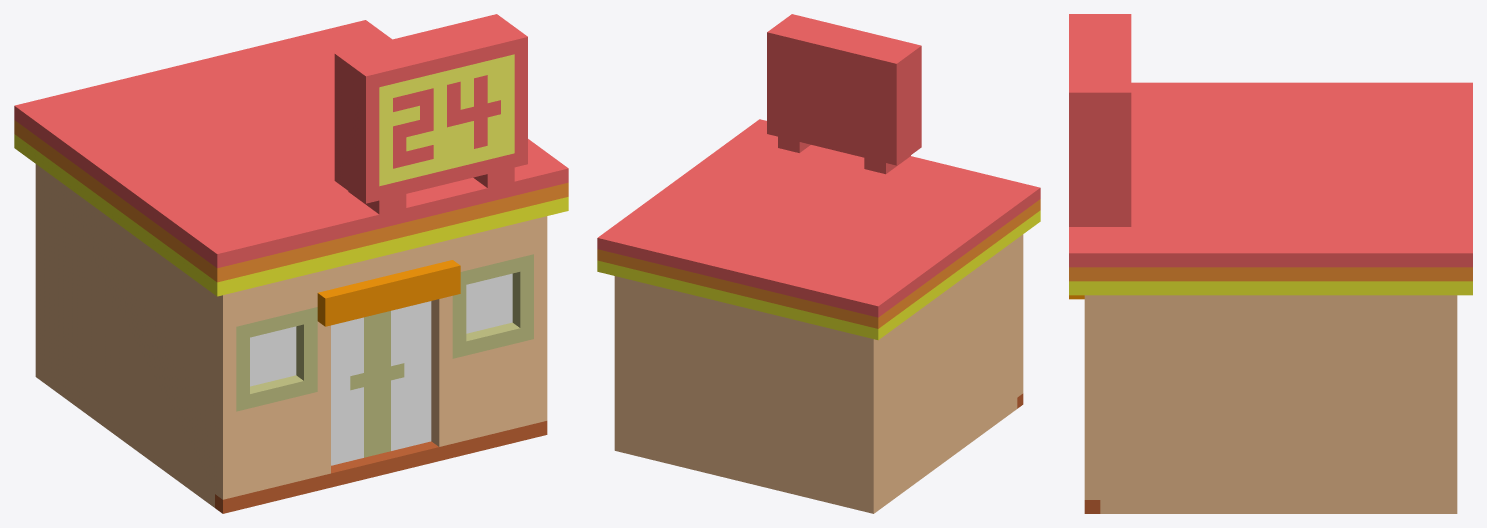
The model's file is conveni.glb.
3 views of the same model, side by side, from view 1: azimuth 30°, elevation 25°; view 2: azimuth 150°, elevation 25°; view 3: azimuth 270°, elevation 25° (orthographic). The views are drawn at different scales.
Bounding box in the file's own units: 2.6 × 2.9 × 2.6.
1 material, 1 textured.
